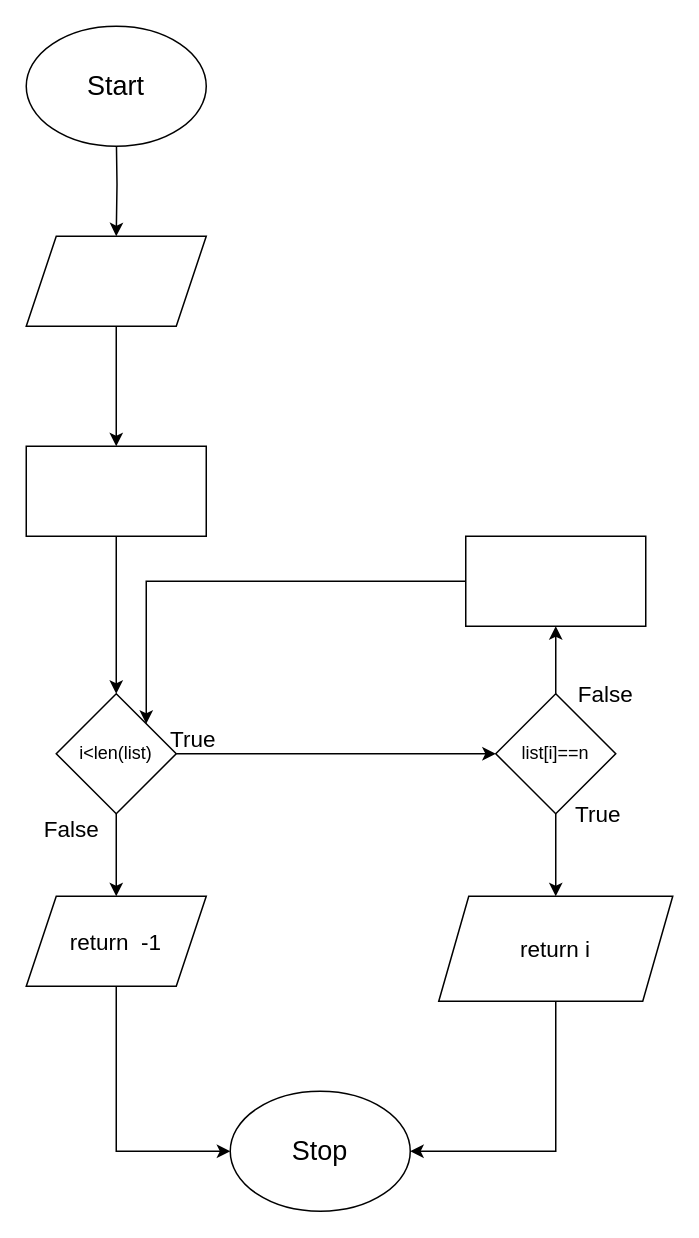
This 699x1238 diagram has some shape labels left out. The shapes that lost their labels are listed below. From the top down, each one's box as (x1, y1, x2, y2) in pixels, then its label:
(25, 235, 206, 326): Input List and n
(25, 445, 206, 536): i=0
(464, 535, 646, 626): i=i+1
